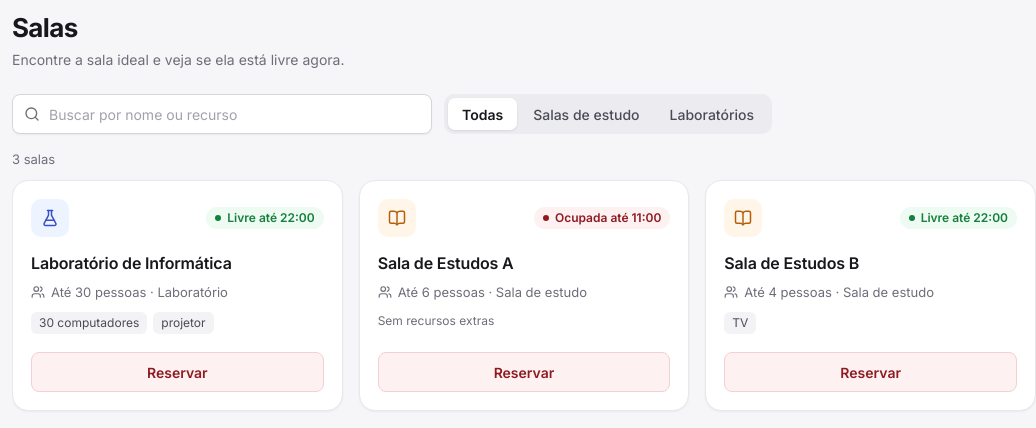
Scenario: Salas › filtra por tipo e pela busca (nome ou recurso)
Expected: the text "3 salas" is shown, [12,151,55,167]
Click the button "Salas de estudo" at (586, 114), box [519,98,654,130]
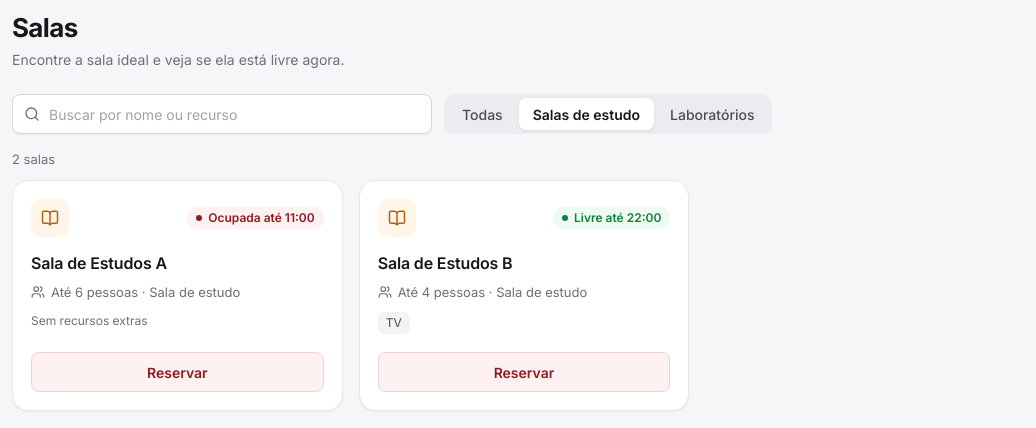
Now the text "2 salas" is shown, box [12,151,55,167]
Type " tv " into the search field named "Buscar sala" at (222, 114), box [12,94,432,134]
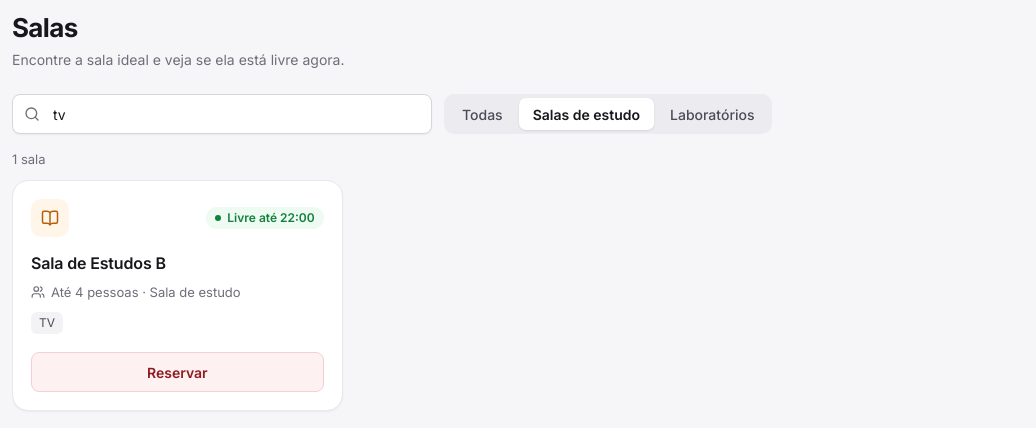
Expected: the heading "Sala de Estudos B" is shown, [31,253,166,273]
Now the text "1 sala" is shown, box [12,151,46,167]
Replace the text in the search field named "Buscar sala" with "nada" at (222, 114), box [12,94,432,134]
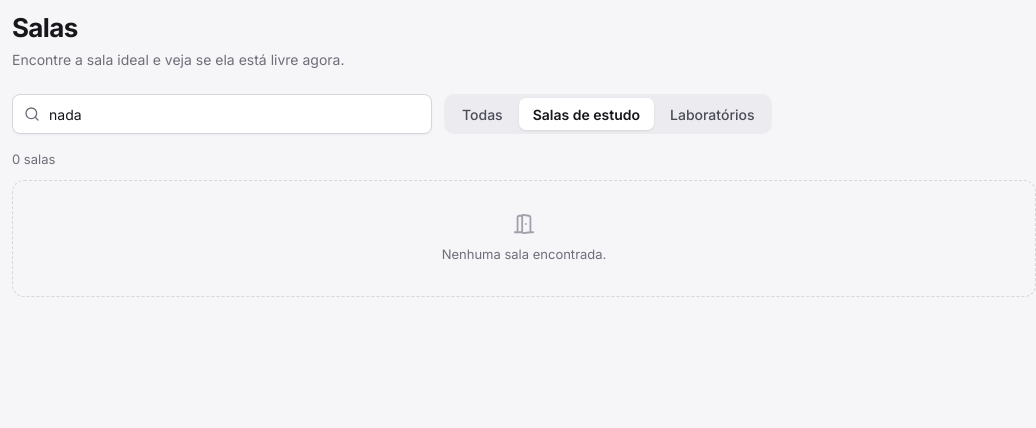
Now the text "Nenhuma sala encontrada." is shown, box [442,245,606,264]
Click the button "Todas" at (482, 114), box [448,98,517,130]
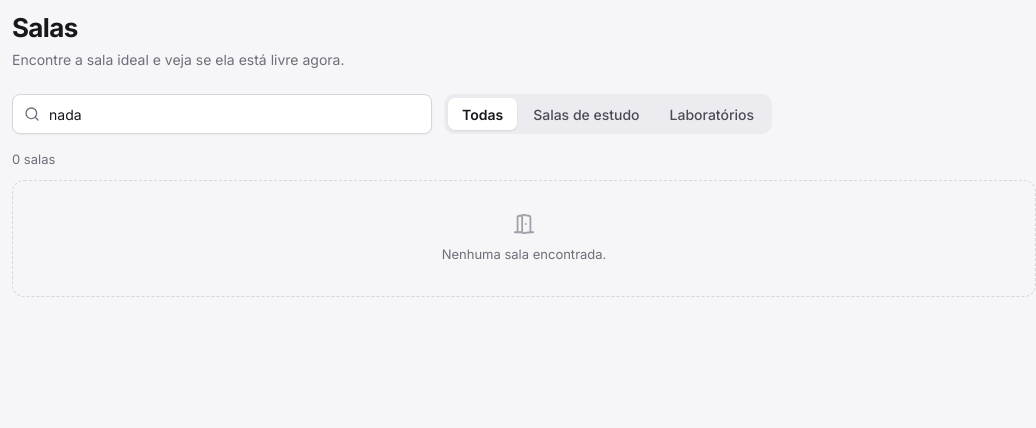
Replace the text in the search field named "Buscar sala" with "laboratório" at (222, 114), box [12,94,432,134]
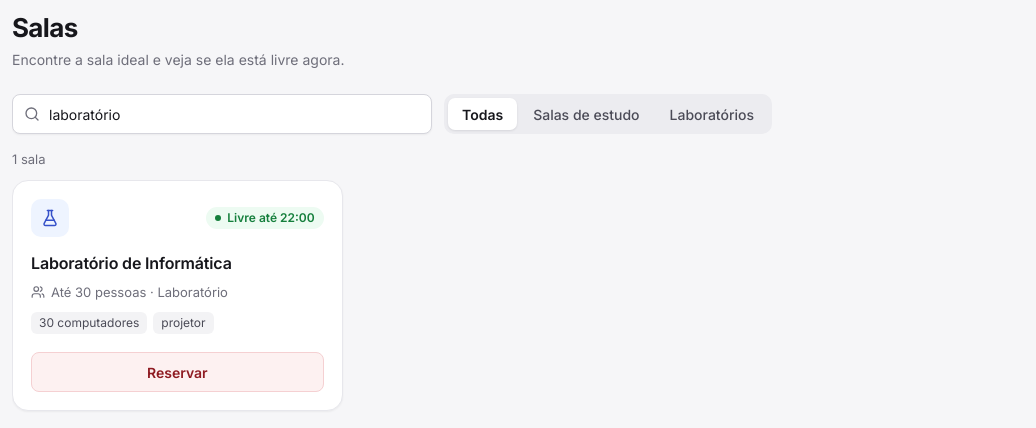
Now the text "1 sala" is shown, box [12,151,46,167]
